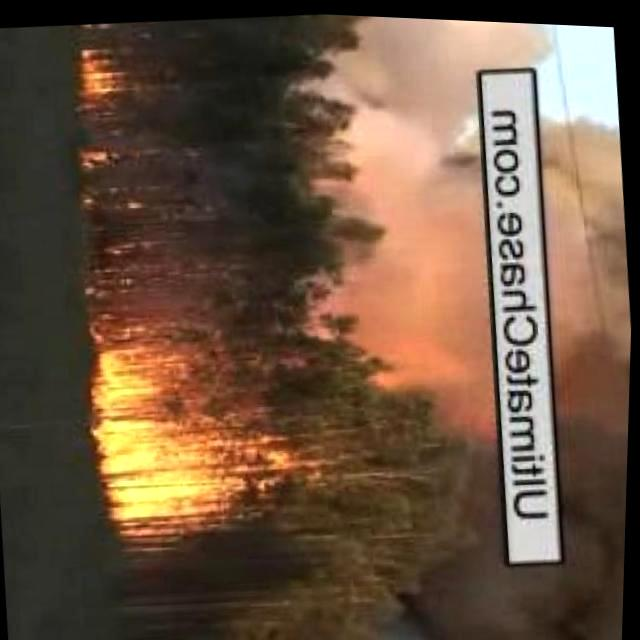fire: (88, 327, 252, 541), (85, 241, 147, 339), (71, 143, 141, 219), (78, 44, 124, 104)
